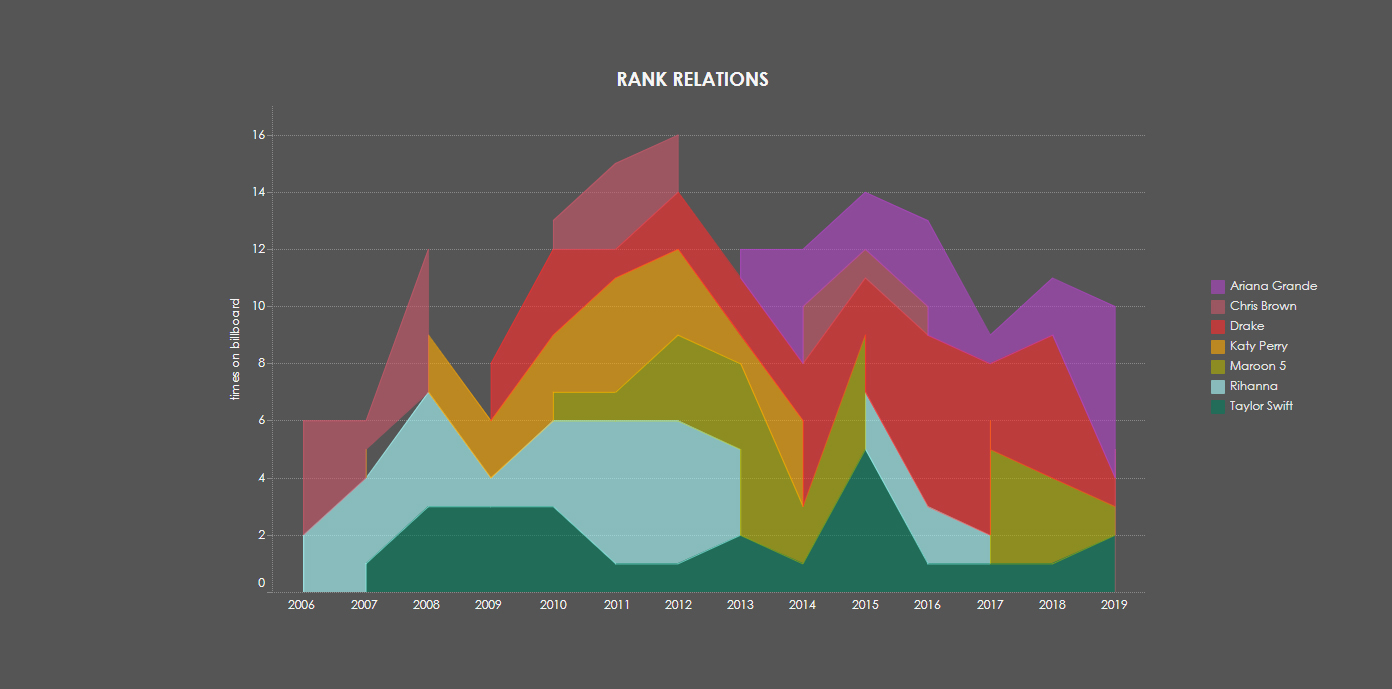

This screenshot's page, from the dashboard's own definition file:
{"tool":"tableau","page":{"name":"04","canvas":[1000,1000],"units":"permille","ordinal":3},"visuals":[{"type":"text","box":[393.1,98,213,81.1]},{"type":"worksheet","title":"year_numb","mark":"Area","rows":["Number of Records"],"cols":["year"],"box":[161.9,179.1,666.7,729.7]},{"type":"legend","title":"year_numb","param":"[federated.00jieeo0hywcyu159gdzd0c7lh80].[none:main_artist:nk]","box":[16.4,554.1,121.2,297.3]}]}

Visuals, with their boxes on the dashboard's canvas, which has no fixed pixel size, in thousandths of its width and height (x1, y1, x2, y2). These are canvas units, not pixel positions in the 1392x689 screenshot, which may show the page scaled, cropped or inside an application window:
text: {"x1": 393, "y1": 98, "x2": 606, "y2": 179}
"year_numb" worksheet (Area marks): {"x1": 162, "y1": 179, "x2": 829, "y2": 909}
"year_numb" legend: {"x1": 16, "y1": 554, "x2": 138, "y2": 851}
